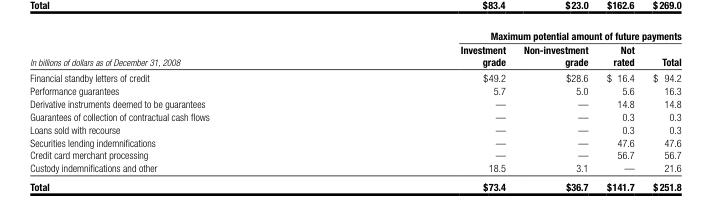table: (29, 29, 680, 192)
table column: (29, 29, 334, 192), (334, 29, 513, 192), (513, 29, 596, 192), (596, 29, 642, 192), (642, 29, 680, 192)
table column header: (29, 29, 680, 69)
table row: (29, 42, 680, 69), (29, 176, 680, 192), (29, 69, 680, 84), (29, 161, 680, 176), (29, 29, 680, 42), (29, 96, 680, 109), (29, 109, 680, 122), (29, 122, 680, 135), (29, 135, 680, 148), (29, 148, 680, 161), (29, 84, 680, 96)
table spanning cell: (29, 29, 334, 69), (334, 29, 680, 42)
